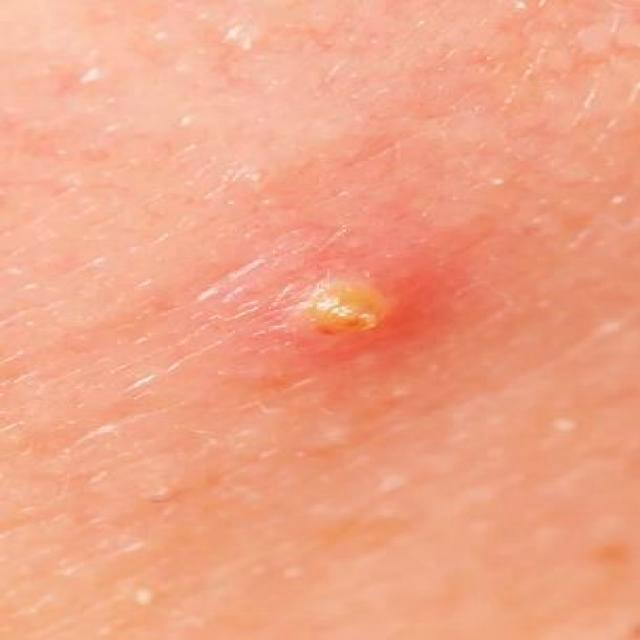Pimples: (266, 263, 426, 363)
